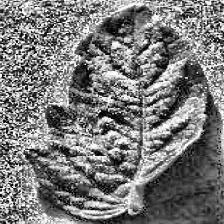spider mites: (23, 4, 206, 215)
